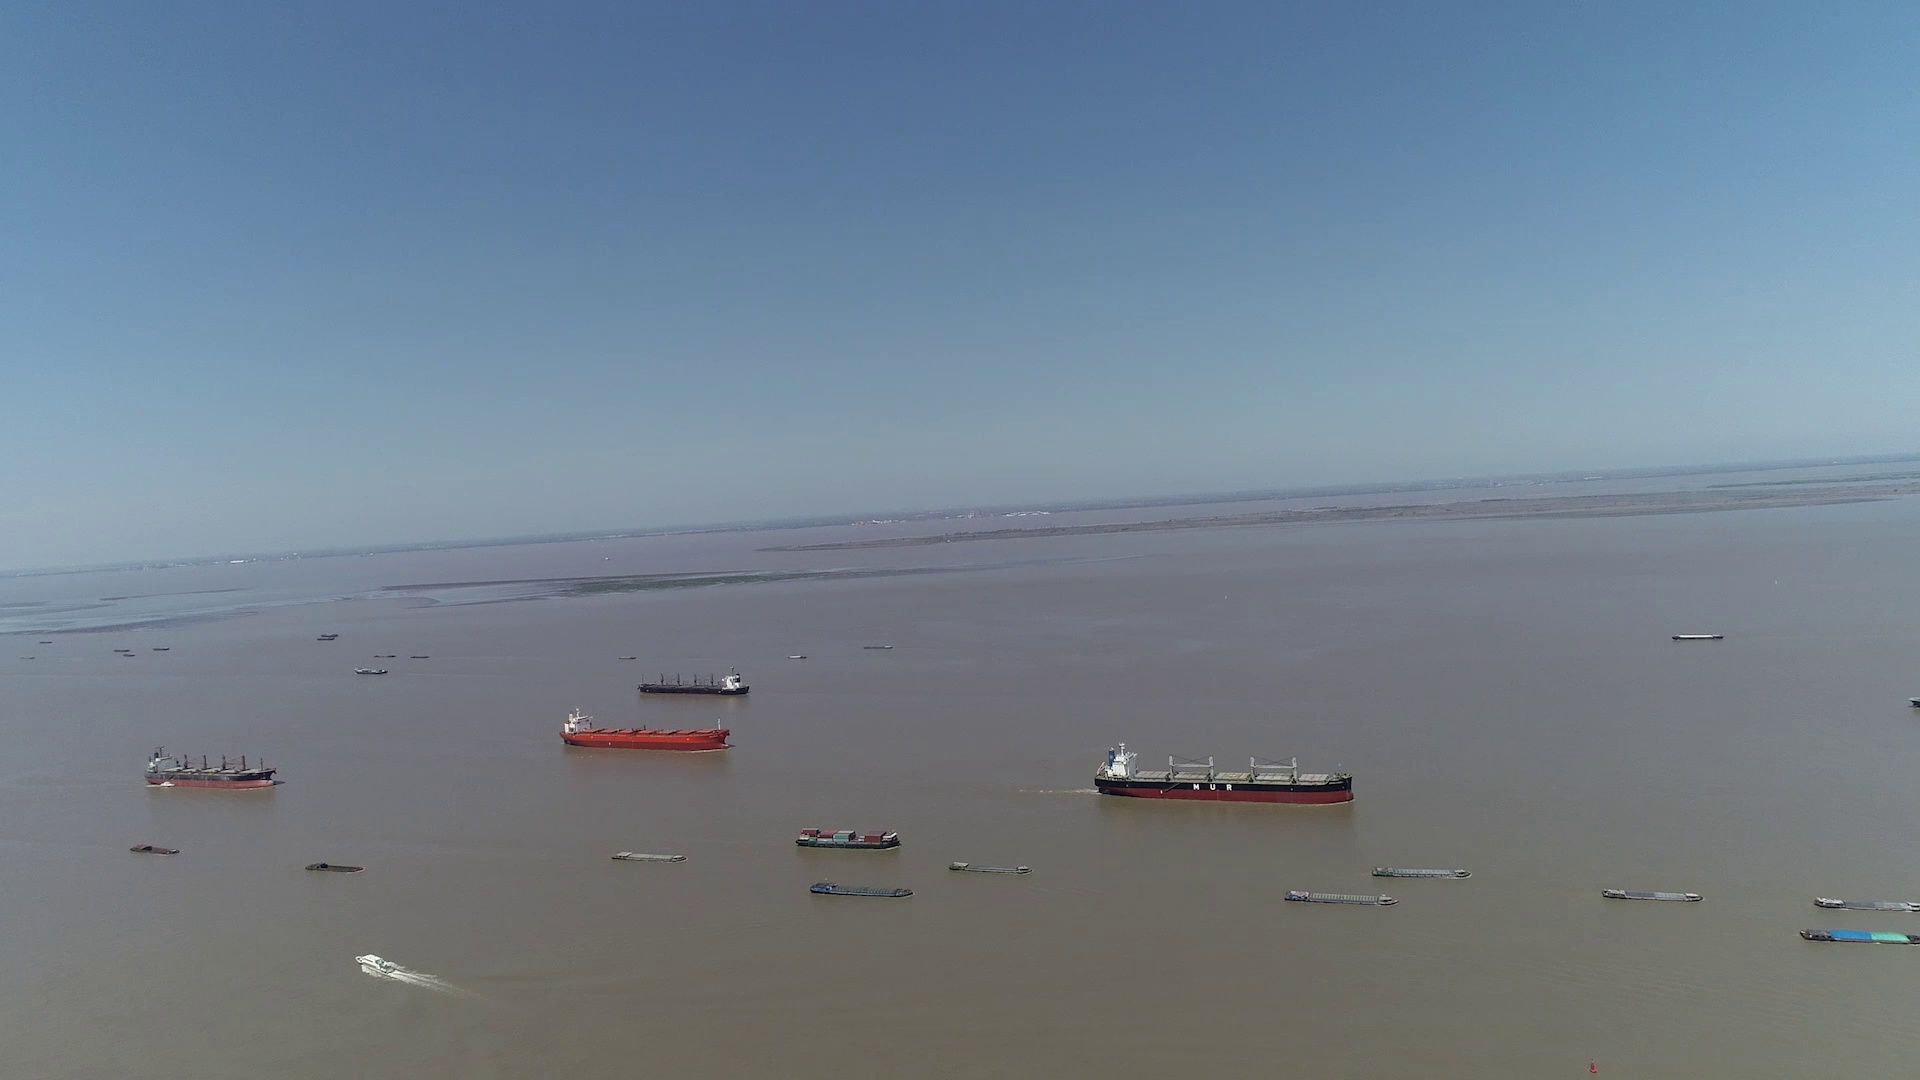ship: (1093, 740, 1354, 804), (560, 705, 731, 752), (146, 742, 280, 787), (637, 669, 749, 694), (1800, 924, 1920, 945), (793, 827, 899, 849), (1815, 893, 1916, 913), (1284, 889, 1398, 906), (808, 881, 911, 898), (1604, 886, 1702, 903), (1370, 862, 1468, 877), (949, 858, 1030, 876), (356, 953, 413, 977), (615, 851, 688, 862), (303, 862, 367, 874), (129, 844, 175, 855), (1671, 632, 1724, 640), (355, 665, 385, 674)
